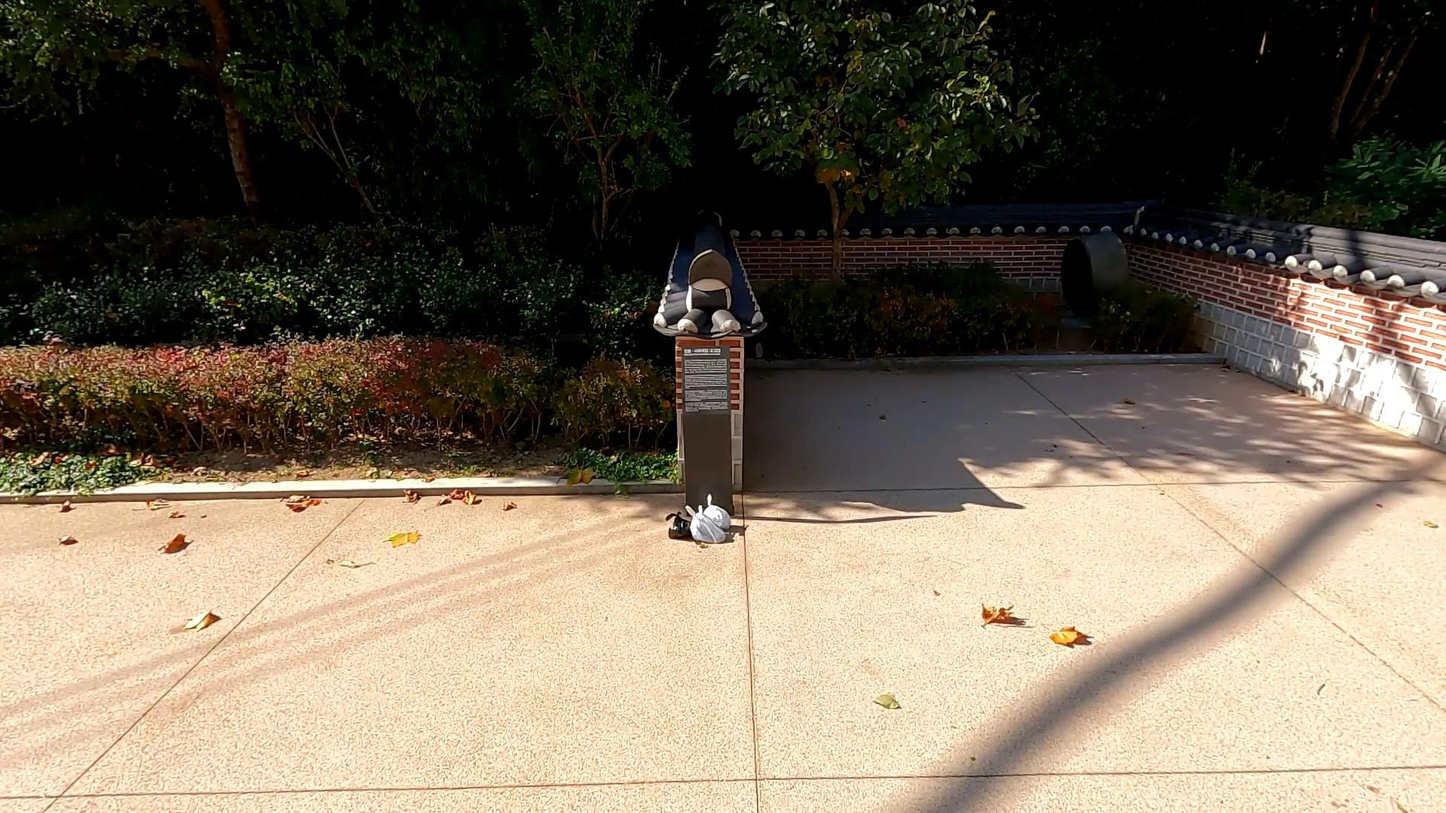trash: (689, 508, 727, 544), (700, 494, 731, 531), (663, 513, 695, 540)
